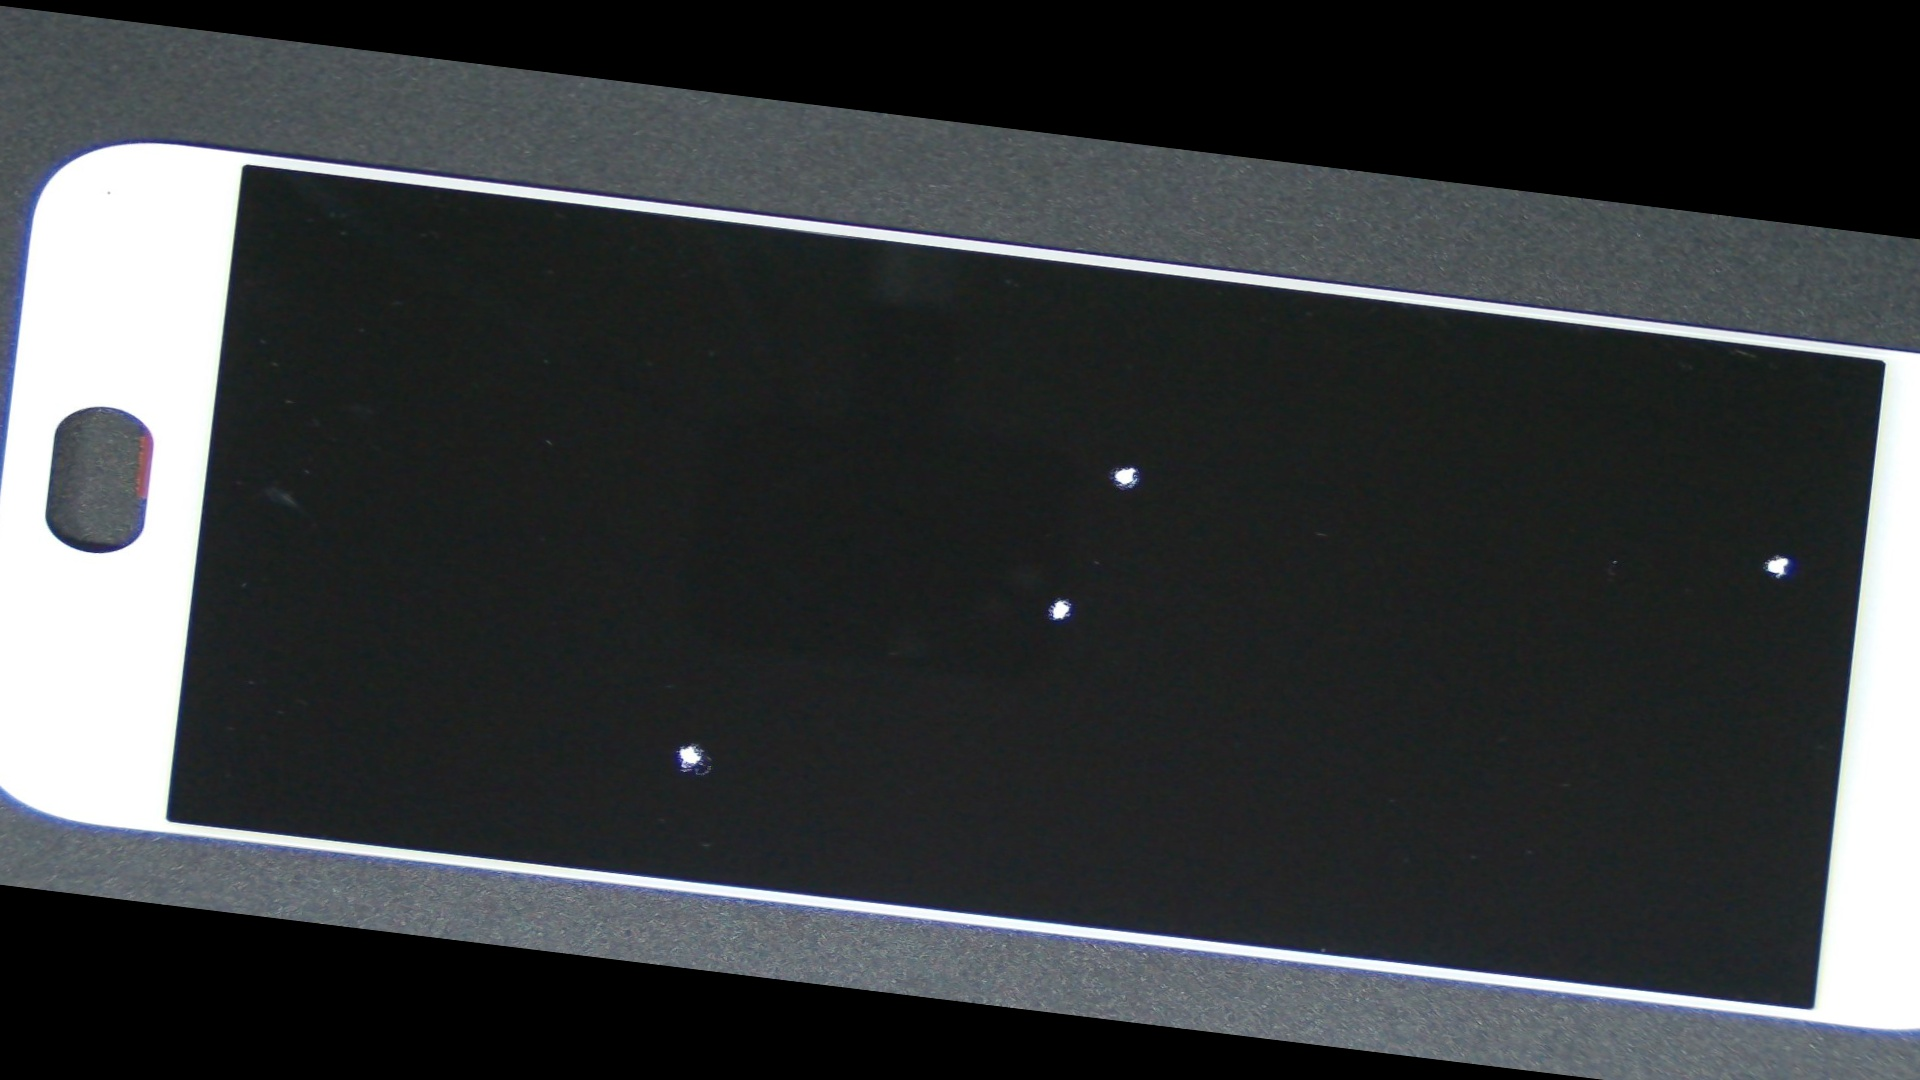oil: (452, 298, 1662, 895), (505, 232, 1756, 696), (257, 371, 1134, 1014), (827, 277, 1920, 757)
